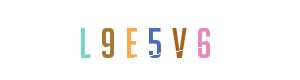5: (110, 0, 190, 80)
6: (159, 0, 239, 80)
9: (94, 0, 174, 80)
E: (99, 0, 179, 80)
L: (53, 0, 133, 80)
V: (114, 0, 194, 80)
